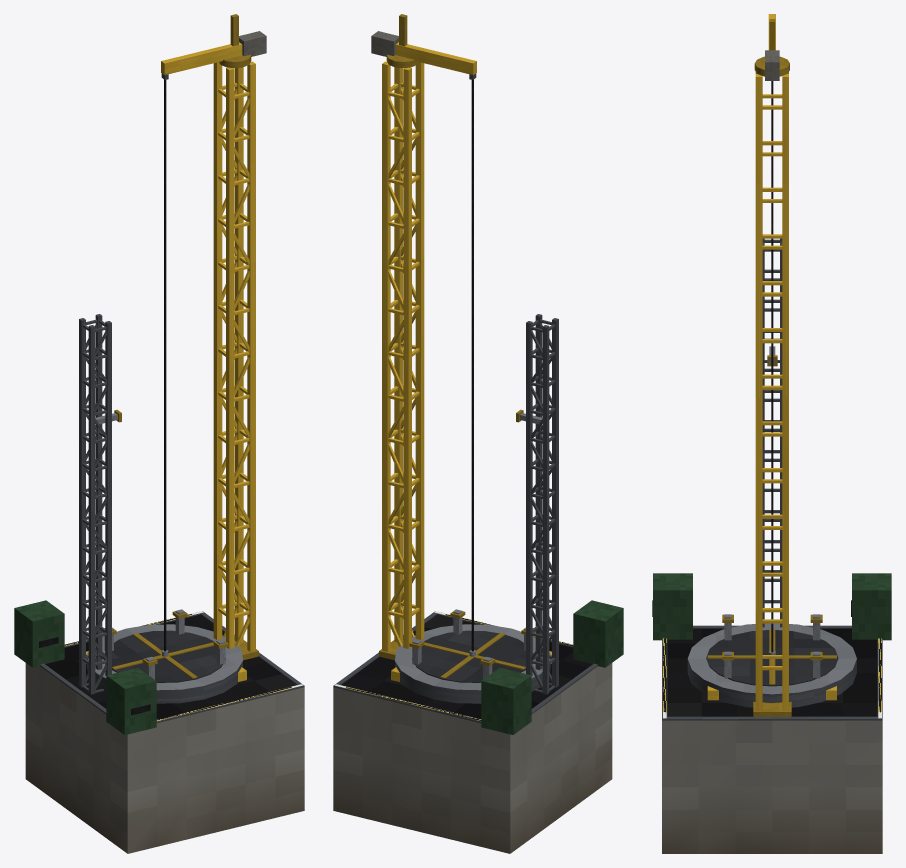
File: launch_pad_3.glb
The picture shows the model from 3 angles, left to right: view 1: azimuth 30°, elevation 25°; view 2: azimuth 150°, elevation 25°; view 3: azimuth 270°, elevation 25°; orthographic projection. The views are drawn at different scales.
Parts seen in each view (by area): view 1: root, umb, crane_turret, grip; view 2: root, umb, crane_turret, grip; view 3: root, umb, crane_turret, grip.
Boxes of the visible parts, x1,y1,x2,y2 form: root: [14, 61, 304, 853]; umb: [79, 314, 111, 694]; crane_turret: [161, 14, 266, 79]; grip: [86, 633, 246, 681]; root: [333, 61, 623, 853]; umb: [526, 314, 558, 694]; crane_turret: [371, 14, 476, 79]; grip: [391, 633, 551, 681]; root: [652, 72, 891, 853]; umb: [762, 238, 782, 627]; crane_turret: [754, 14, 789, 80]; grip: [707, 629, 836, 700].
Size of the model in its own units: 3.28 by 12.34 by 3.25.
1 material, 1 textured.
